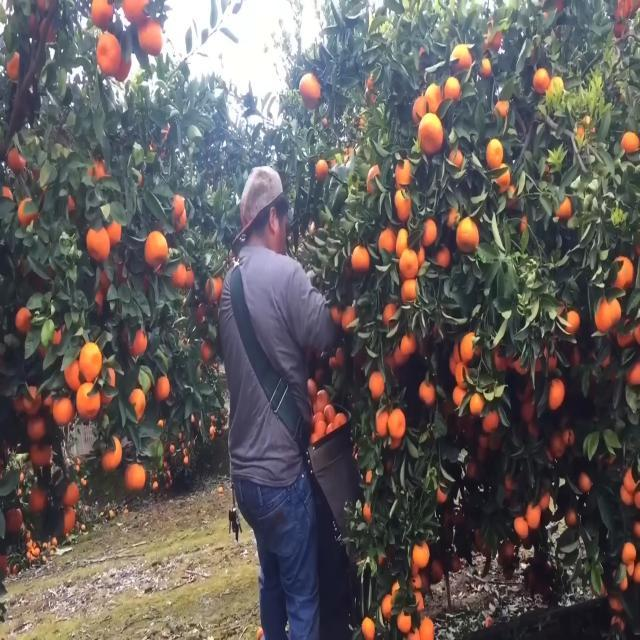Jeruk Sudah Matang: (592, 291, 622, 334), (94, 32, 122, 72), (74, 381, 105, 417), (454, 214, 480, 256), (611, 250, 635, 294), (417, 112, 442, 154), (138, 16, 164, 56), (87, 222, 112, 261), (143, 231, 169, 267), (78, 340, 102, 379), (298, 74, 320, 112), (127, 324, 149, 360), (125, 388, 148, 422), (15, 197, 40, 228), (448, 42, 472, 74), (91, 0, 116, 30), (101, 436, 123, 470), (52, 394, 75, 426), (28, 439, 54, 467), (618, 310, 636, 350), (28, 482, 50, 514), (460, 328, 480, 363), (548, 376, 566, 414), (5, 503, 27, 534), (392, 160, 417, 187), (6, 146, 27, 177), (561, 306, 580, 339), (442, 74, 462, 105), (393, 187, 413, 218), (125, 463, 147, 491), (14, 306, 34, 336), (412, 536, 432, 565), (378, 228, 396, 260), (26, 418, 48, 444), (23, 386, 42, 416), (398, 278, 419, 304), (365, 162, 382, 194), (484, 138, 502, 168), (418, 380, 436, 410), (352, 244, 369, 275), (400, 247, 418, 276), (368, 368, 386, 397), (204, 273, 222, 302), (420, 217, 438, 245), (532, 66, 550, 94), (524, 498, 542, 526), (496, 162, 510, 198), (372, 408, 390, 436), (60, 481, 80, 506), (418, 614, 437, 640), (455, 360, 473, 387), (450, 384, 470, 408), (622, 131, 638, 161), (60, 504, 76, 533), (492, 99, 512, 122), (471, 388, 486, 418), (620, 542, 638, 567), (169, 192, 183, 224), (390, 408, 406, 436), (556, 194, 572, 222), (396, 606, 412, 634), (513, 514, 530, 540), (172, 260, 186, 291), (396, 225, 410, 256), (154, 376, 170, 403), (484, 407, 500, 434), (200, 338, 215, 366), (341, 305, 356, 333), (329, 302, 344, 330), (622, 468, 639, 492), (619, 484, 636, 508), (538, 483, 552, 512), (434, 480, 449, 507), (520, 398, 536, 422), (626, 360, 640, 387), (184, 261, 197, 290), (401, 329, 416, 354), (382, 302, 398, 325), (552, 430, 565, 458), (446, 555, 464, 575), (434, 244, 450, 266), (381, 591, 394, 618), (195, 300, 209, 325), (562, 425, 576, 450), (314, 158, 328, 182), (362, 616, 376, 640), (446, 150, 463, 169), (479, 57, 492, 81), (610, 592, 624, 614), (565, 508, 579, 528), (580, 473, 592, 496), (465, 460, 477, 483), (412, 590, 424, 610), (506, 470, 518, 490), (504, 537, 514, 557)
